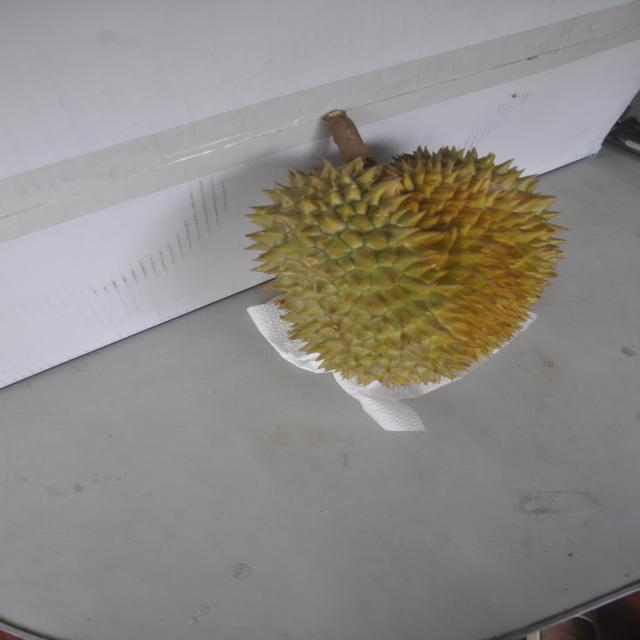mature: (238, 140, 566, 391)
